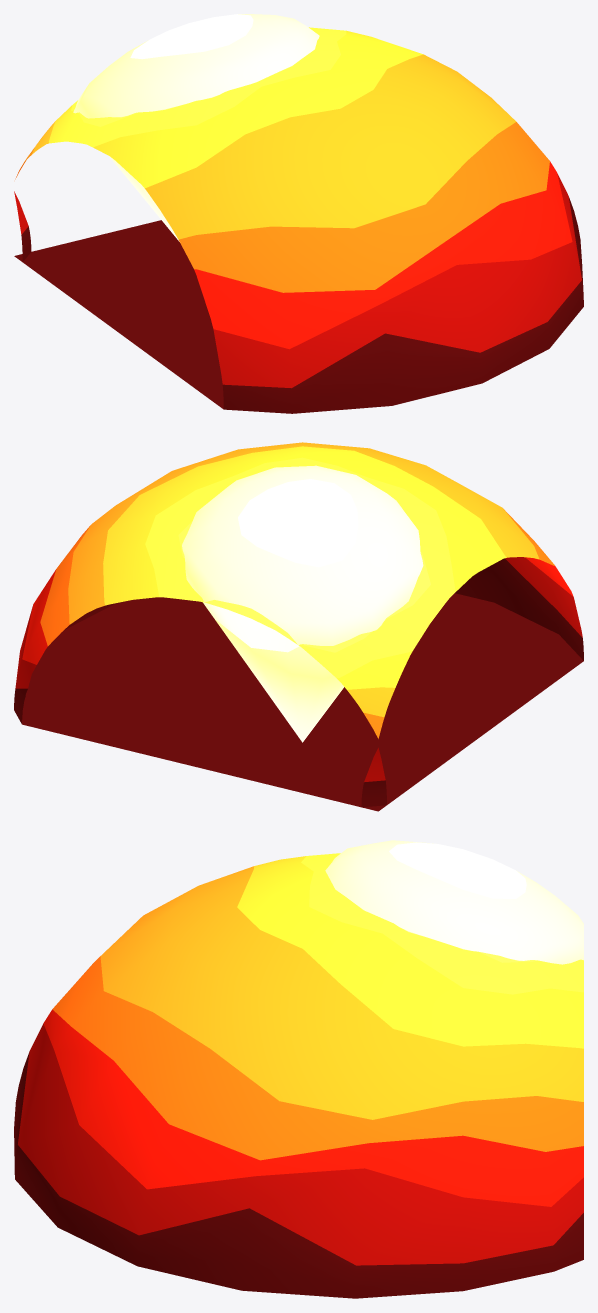
Rendered from shot_charge_b246.glb.
3 views of the same model, one above another, from view 1: azimuth 30°, elevation 25°; view 2: azimuth 150°, elevation 25°; view 3: azimuth 270°, elevation 25° (orthographic). The views are drawn at different scales.
Visible parts, largest first — view 1: charge_twin6_a_fire_shot_charge_b246, charge_twin6_a_core_shot_charge_b246; view 2: charge_twin6_a_fire_shot_charge_b246, charge_twin6_a_core_shot_charge_b246, charge_twin6_b_fire_shot_charge_b246; view 3: charge_twin6_a_fire_shot_charge_b246, charge_twin6_a_core_shot_charge_b246.
Boxes of the visible parts, x1,y1,x2,y2 form: charge_twin6_a_fire_shot_charge_b246: (14,27,583,413); charge_twin6_a_core_shot_charge_b246: (73,14,319,241); charge_twin6_a_fire_shot_charge_b246: (14,442,583,811); charge_twin6_a_core_shot_charge_b246: (182,465,423,742); charge_twin6_b_fire_shot_charge_b246: (361,747,386,811); charge_twin6_a_fire_shot_charge_b246: (14,853,583,1298); charge_twin6_a_core_shot_charge_b246: (325,840,583,964).
Bounding box in the file's own units: 10 × 5.37 × 9.92.
